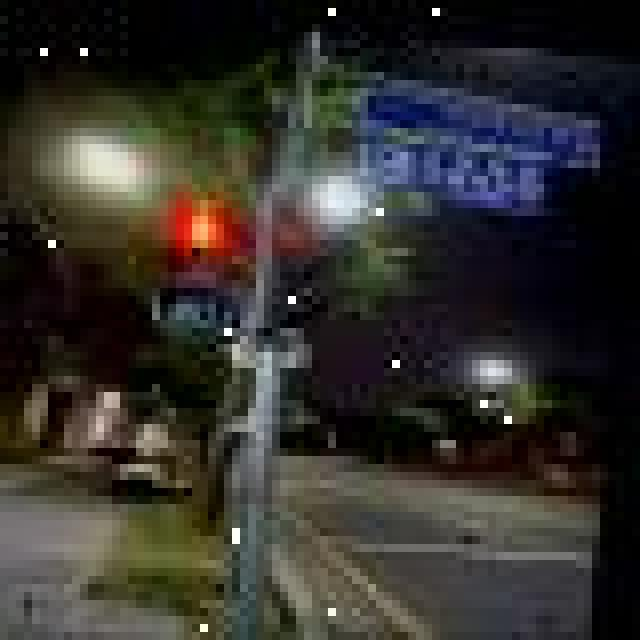redlight: (148, 197, 240, 356)
